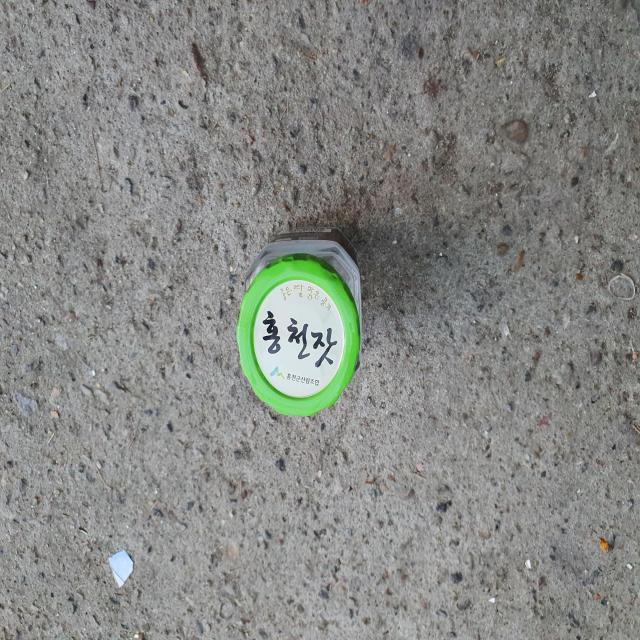glass: (237, 228, 362, 416)
